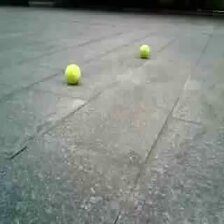tennis: (65, 64, 80, 82), (139, 44, 150, 56)
